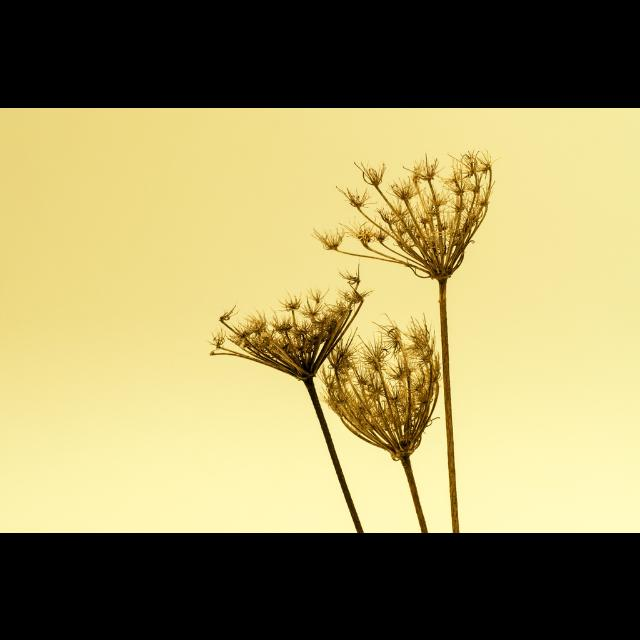Flower: (310, 144, 498, 270), (200, 264, 372, 378), (339, 311, 443, 445)
